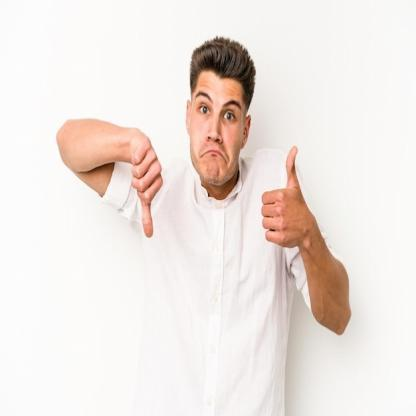thumb_down: (124, 122, 166, 240)
thumb_up: (258, 138, 310, 252)
